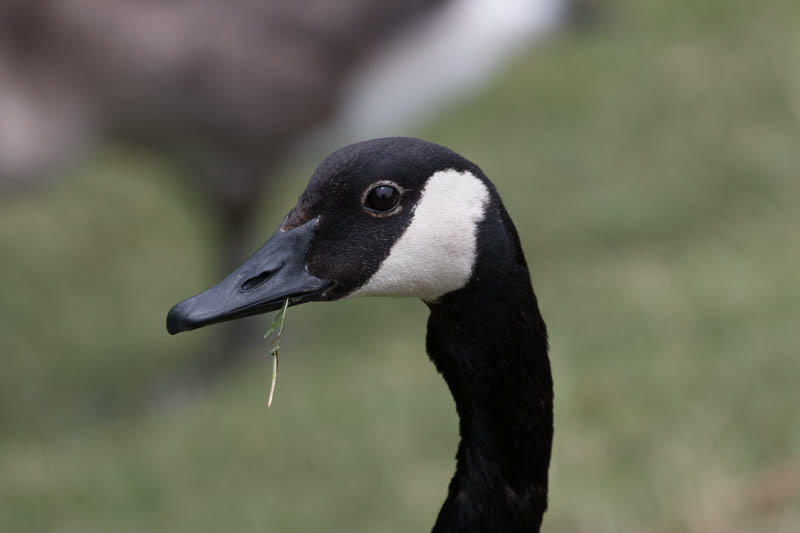goose-head: (166, 137, 525, 336)
